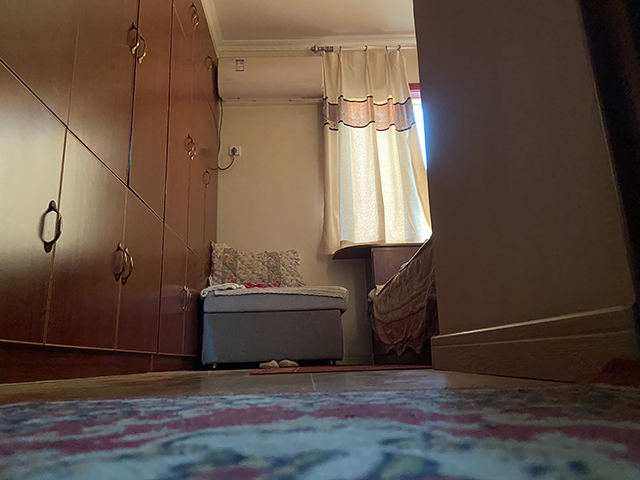bed: (364, 233, 438, 367)
cabinet: (1, 1, 220, 384)
carpet: (1, 359, 640, 480), (249, 361, 434, 376)
curtain: (318, 40, 437, 258)
stool: (200, 284, 349, 369)
